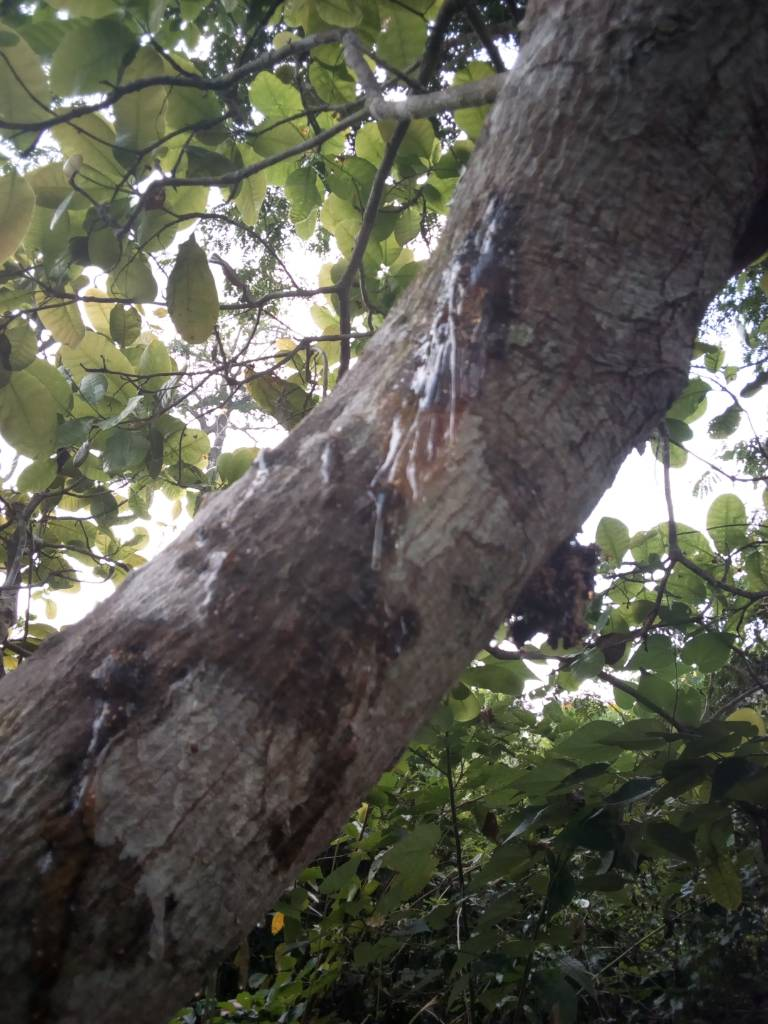Gommose: (68, 494, 386, 788), (379, 214, 527, 507)
